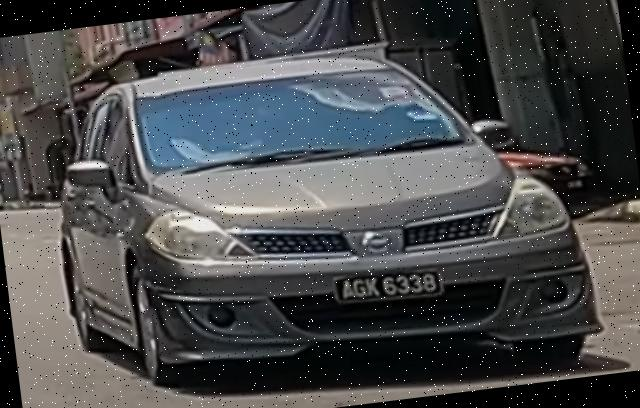License_Plate: (331, 264, 446, 310)
car: (38, 21, 609, 408)
